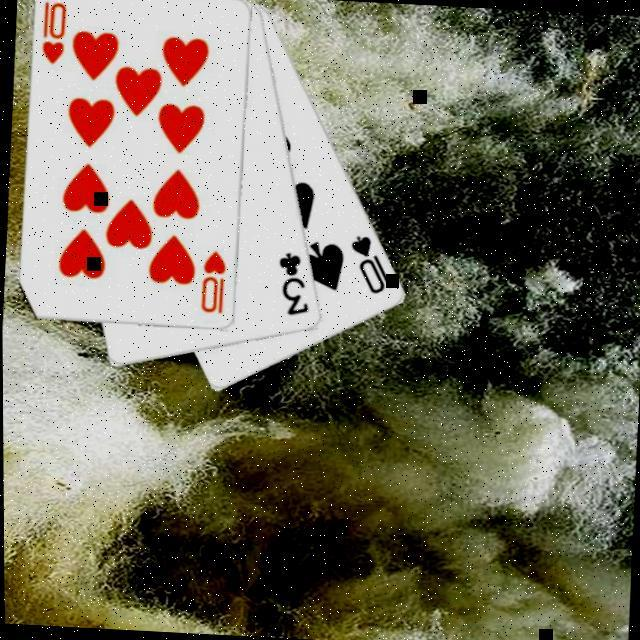10H: (198, 247, 230, 316), (38, 0, 70, 67)
10S: (346, 231, 399, 298)
3C: (274, 248, 316, 320)
